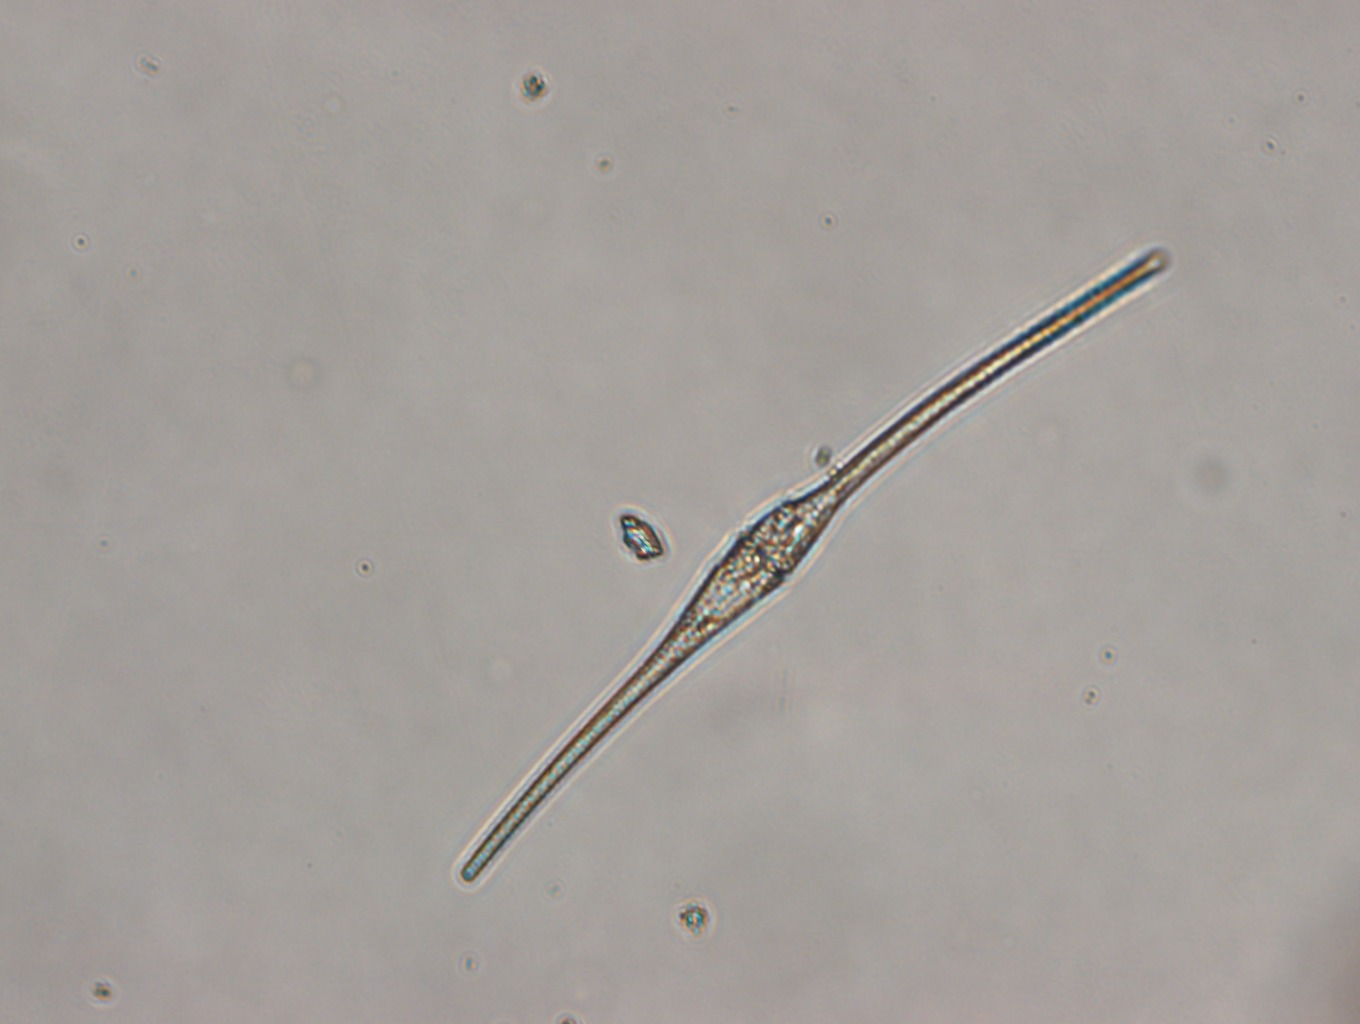ceratium fusus: (458, 245, 1171, 890)
